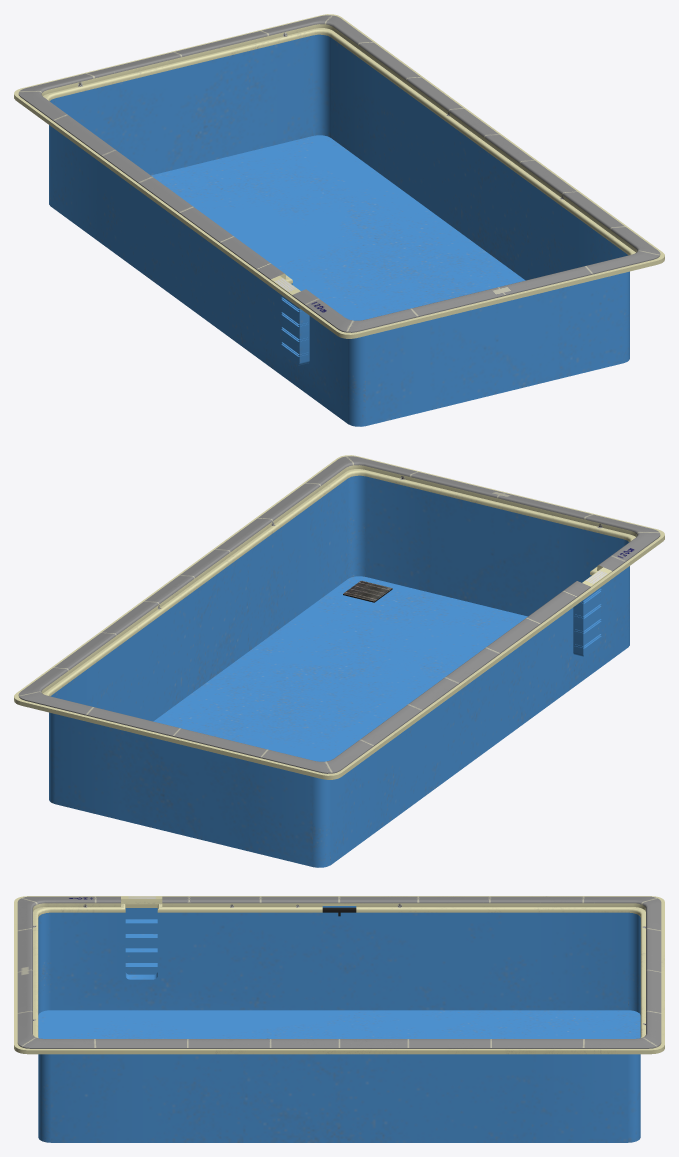
File: pool.fbx
3 views of the same model, one above another, from view 1: azimuth 30°, elevation 25°; view 2: azimuth 150°, elevation 25°; view 3: azimuth 270°, elevation 25° (orthographic). The views are drawn at different scales.
Parts seen in each view (by area): view 1: pool; view 2: pool; view 3: pool.
Part boxes in pixels (<box>): pool: <box>14,14,664,426</box>; pool: <box>14,455,664,867</box>; pool: <box>14,896,664,1142</box>.
Size of the model in its own units: 374 by 121 by 667.
